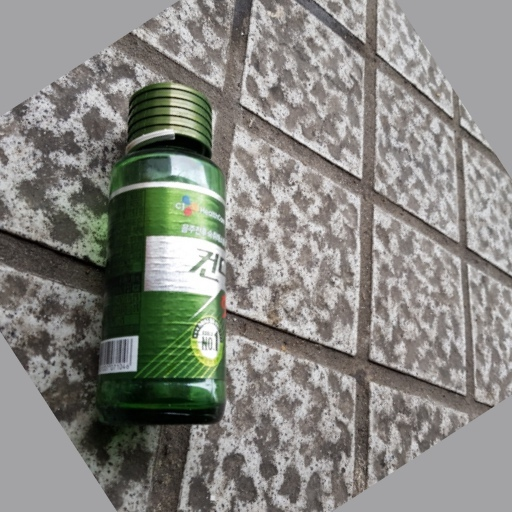Glass_4: (101, 79, 231, 425)
